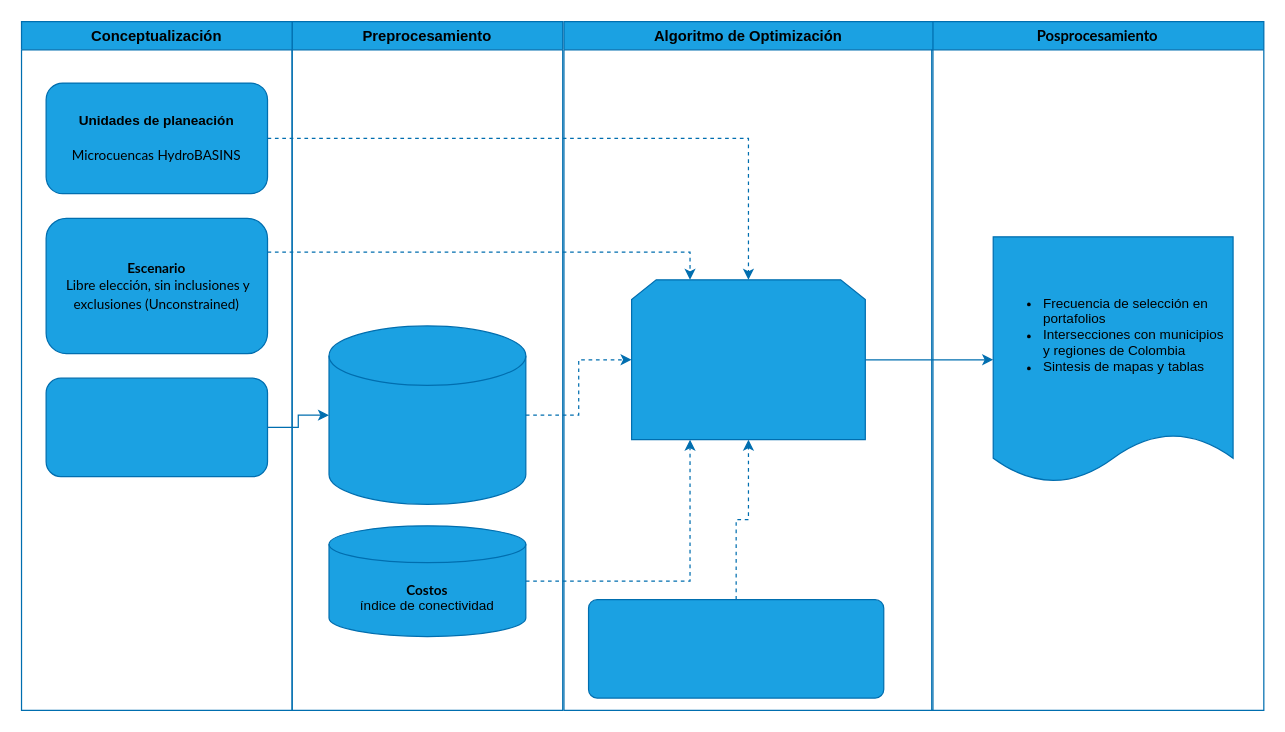
This 1285x732 diagram has some shape labels left out. Here are the shapes that lost their labels. From the top down, the centre of each, then its label:
At (747,359): "PrioritizR add_min_set_objective() add_binary_deci sions()".
At (156,427): "Metas de conservación Representatividad (10 – 100%)".
At (427,414): "Características de priorización Especies y ecosistemas".
At (735,648): "Penalidades add_linear_penalties()".
